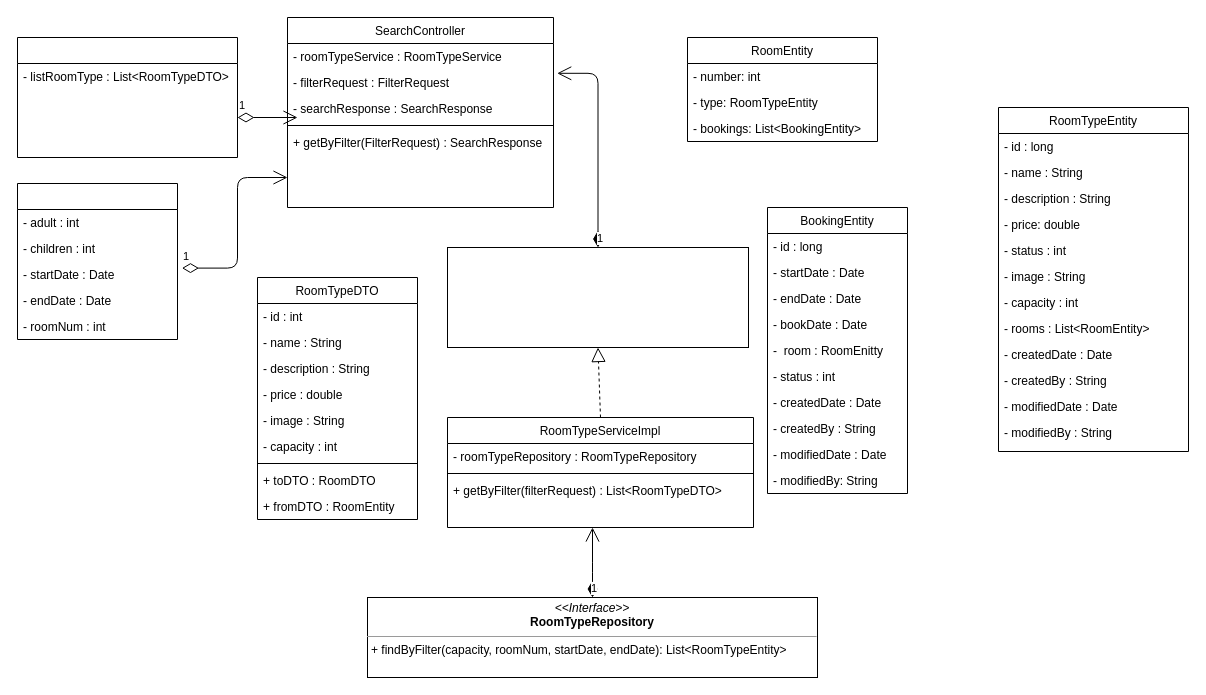
The diagram is 1206 pixels wide and 695 high, and some of its shapes have lost their labels. The box of each missing label's shape, as (x1, y1, x2, y2) in pixels:
<<Interface>> RoomTypeService + getByFilter(fiterRequest) : List<RoomTypeDTO>: (446, 246, 748, 348)
FilterRequest: (16, 182, 178, 340)
SearchResponse: (16, 36, 238, 158)
